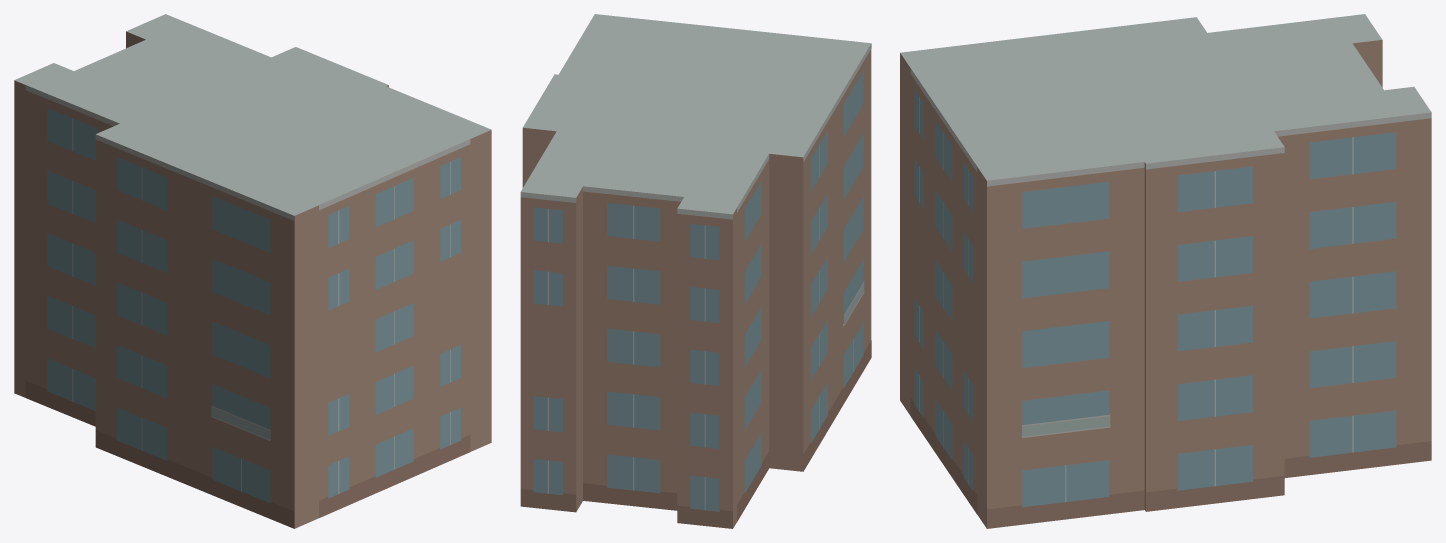
File: survey-upis-32985667.glb
3 views of the same model, side by side, from view 1: azimuth 30°, elevation 25°; view 2: azimuth 150°, elevation 25°; view 3: azimuth 270°, elevation 25° (orthographic). The views are drawn at different scales.
Parts seen in each view (by area): view 1: survey-upis-32985667.tmp; view 2: survey-upis-32985667.tmp; view 3: survey-upis-32985667.tmp.
Boxes of the visible parts, x1,y1,x2,y2 form: survey-upis-32985667.tmp: [14, 14, 491, 528]; survey-upis-32985667.tmp: [520, 14, 871, 528]; survey-upis-32985667.tmp: [900, 14, 1431, 528].
Size of the model in its own units: 15.23 by 14.8 by 20.5.
